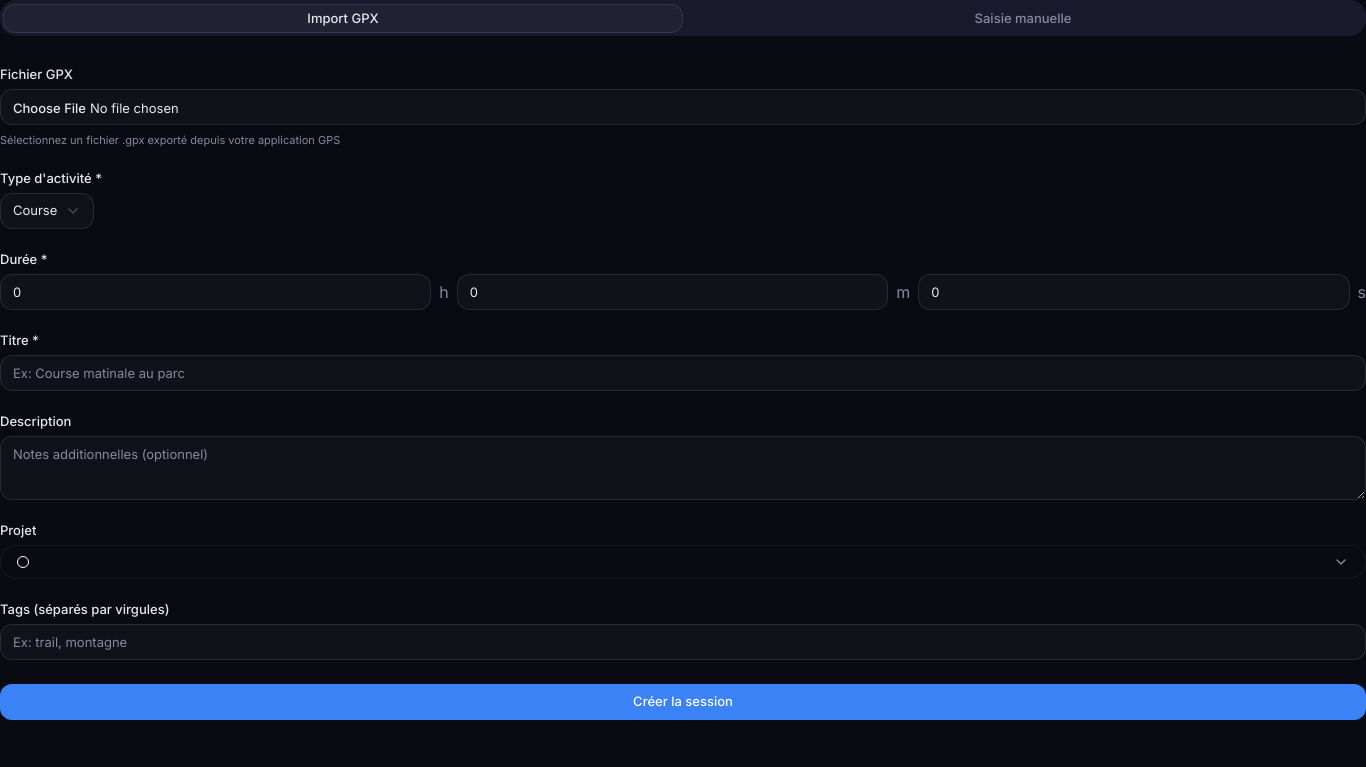
CardioSessionForm › affiche le champ distance après switch en mode manuel
Expected: the field with placeholder "Ex: 5.50" is not shown
Switcher en mode manuel via userEvent
Click the tab "Saisie manuelle": (1023, 18) [683, 4, 1363, 32]
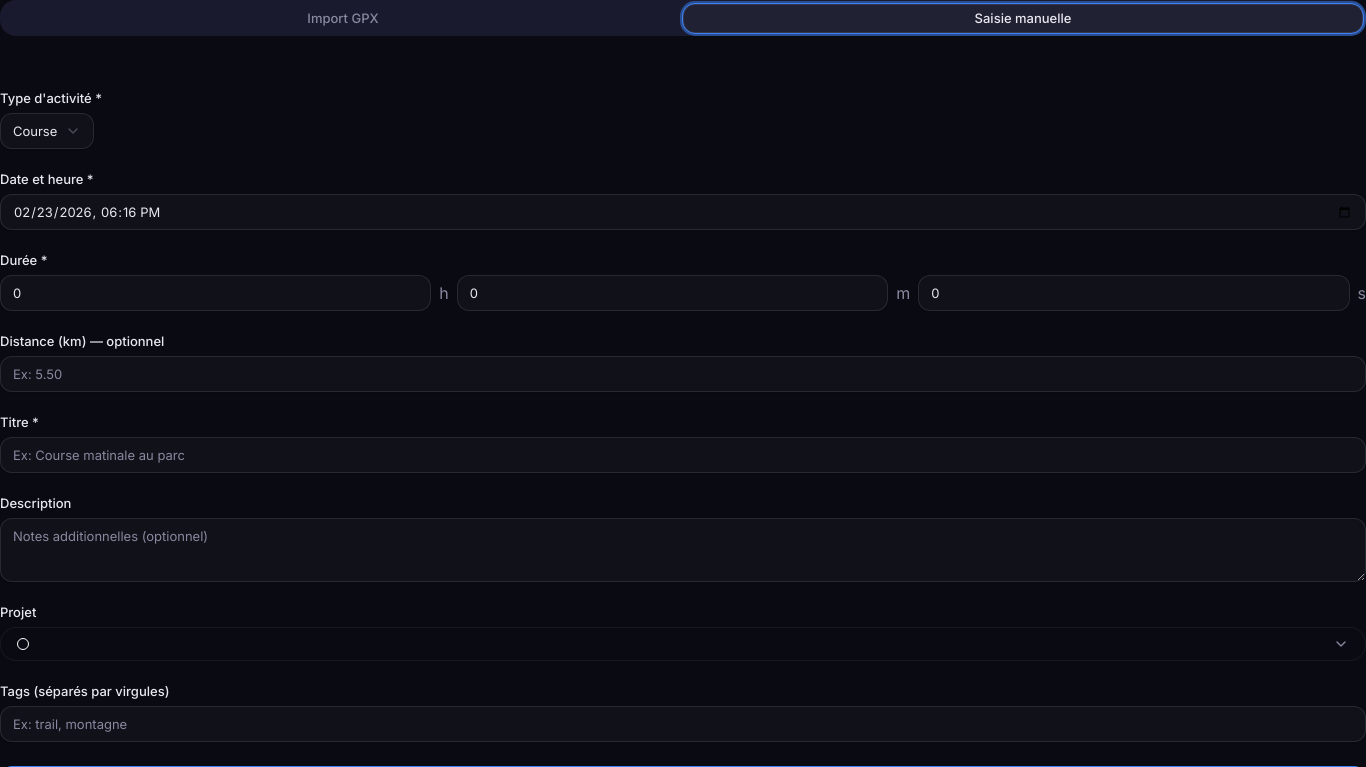
Result: the number field with placeholder "Ex: 5.50" is shown at [0, 356, 1365, 392]
